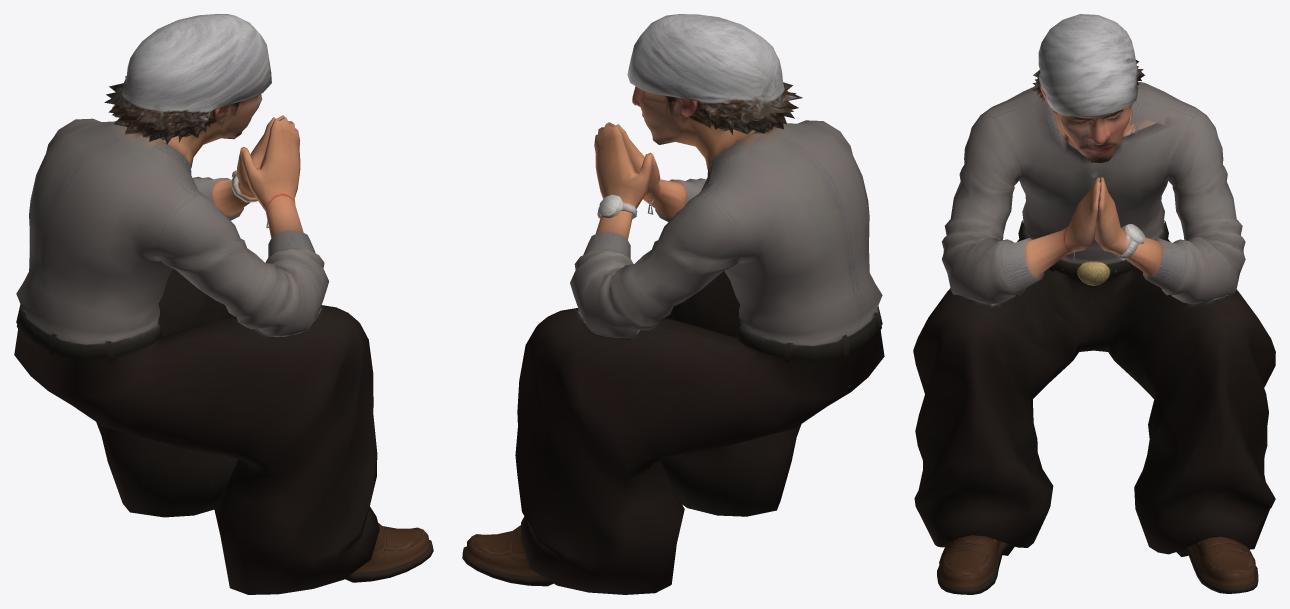
File: rainn-orando-cara.glb
The picture shows the model from 3 angles, left to right: view 1: azimuth 30°, elevation 25°; view 2: azimuth 150°, elevation 25°; view 3: azimuth 270°, elevation 25°; orthographic projection. The views are drawn at different scales.
Visible parts, largest first — view 1: tripo_node_57b18cf3-9f8a-40a3-bf3e-303d9d7fe3ee; view 2: tripo_node_57b18cf3-9f8a-40a3-bf3e-303d9d7fe3ee; view 3: tripo_node_57b18cf3-9f8a-40a3-bf3e-303d9d7fe3ee.
Part boxes in pixels (<box>): tripo_node_57b18cf3-9f8a-40a3-bf3e-303d9d7fe3ee: <box>14,14,433,594</box>; tripo_node_57b18cf3-9f8a-40a3-bf3e-303d9d7fe3ee: <box>462,14,884,594</box>; tripo_node_57b18cf3-9f8a-40a3-bf3e-303d9d7fe3ee: <box>913,14,1275,594</box>.
Size of the model in its own units: 0.6611 by 0.9995 by 0.6567.
1 material, 1 textured.
